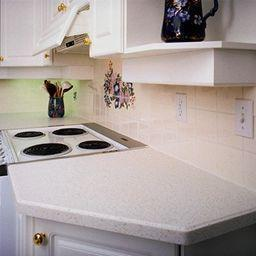Electrodomestico: (0, 122, 153, 153)
